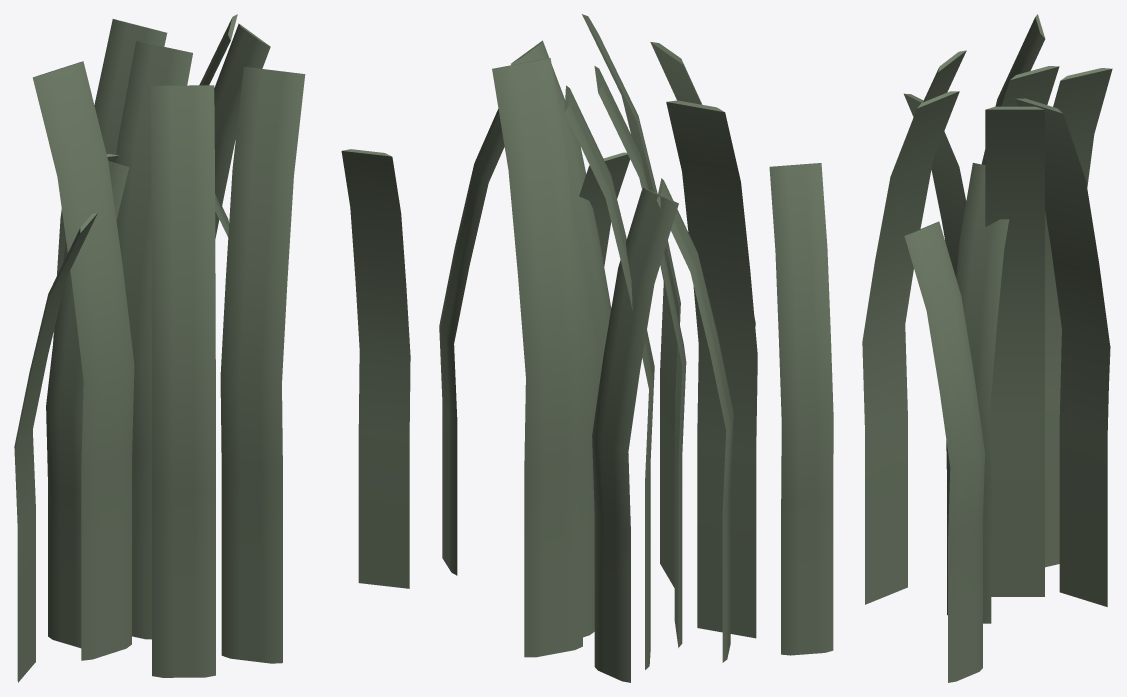
Rendered from Grass.fbx.
The picture shows the model from 3 angles, left to right: view 1: azimuth 30°, elevation 25°; view 2: azimuth 150°, elevation 25°; view 3: azimuth 270°, elevation 25°; orthographic projection. The views are drawn at different scales.
Parts seen in each view (by area): view 1: Gras_; view 2: Gras_; view 3: Gras_.
Part boxes in pixels (x1,y1,x2,y2): Gras_: [14, 14, 410, 682]; Gras_: [439, 14, 833, 682]; Gras_: [862, 14, 1112, 682].
Bounding box in the file's own units: 7.12 × 9.64 × 4.2.
